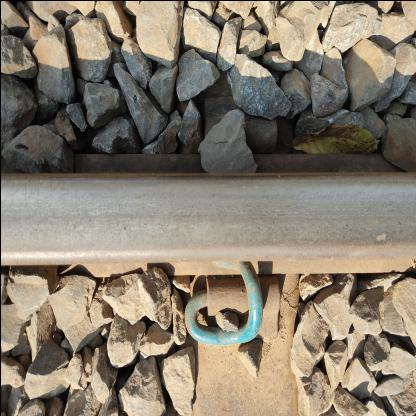Defective: (174, 42, 323, 161)
